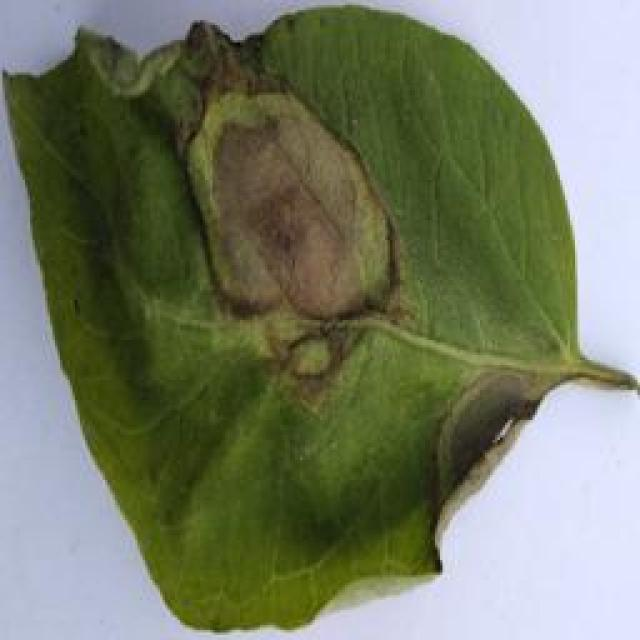Potato_Late_Blight: (7, 10, 629, 632)
